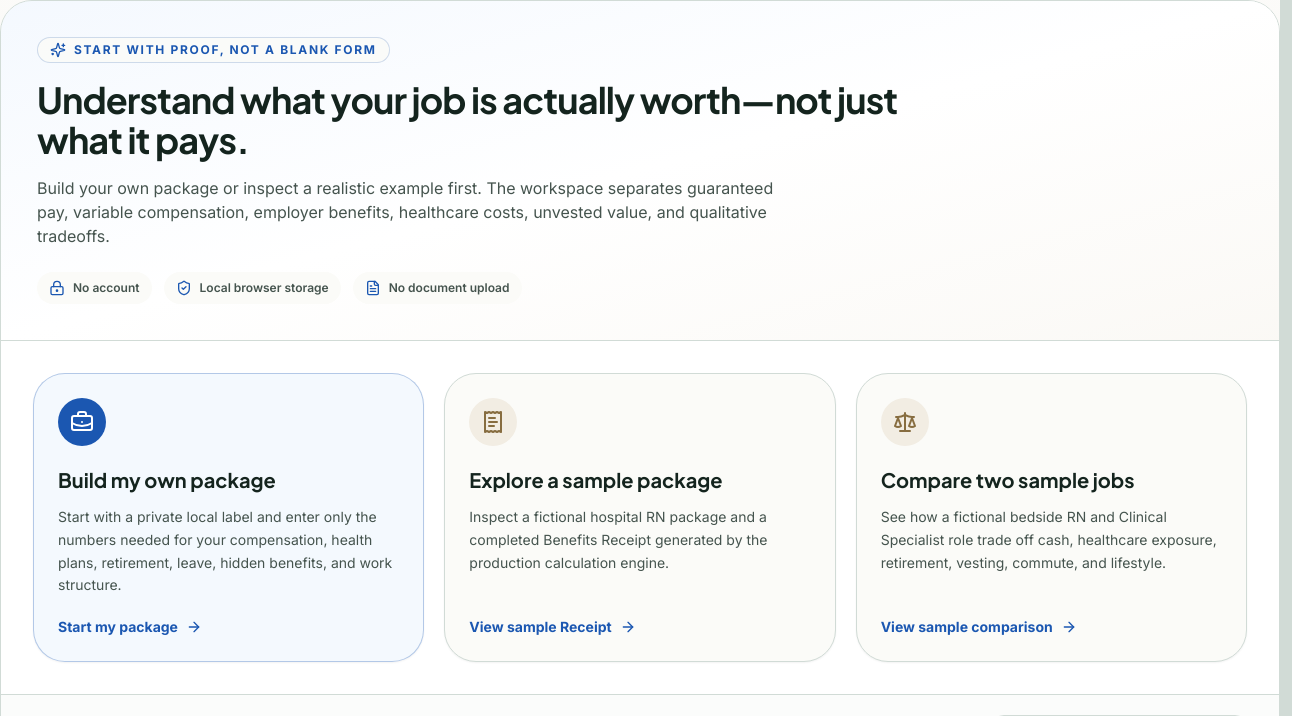
Test: BenefitsCommandCenterActivation › loads a sample package in one action and renders a calculated Receipt preview
Click the button "Explore a sample package": (640, 518) [444,373,836,662]
(page scrolled)
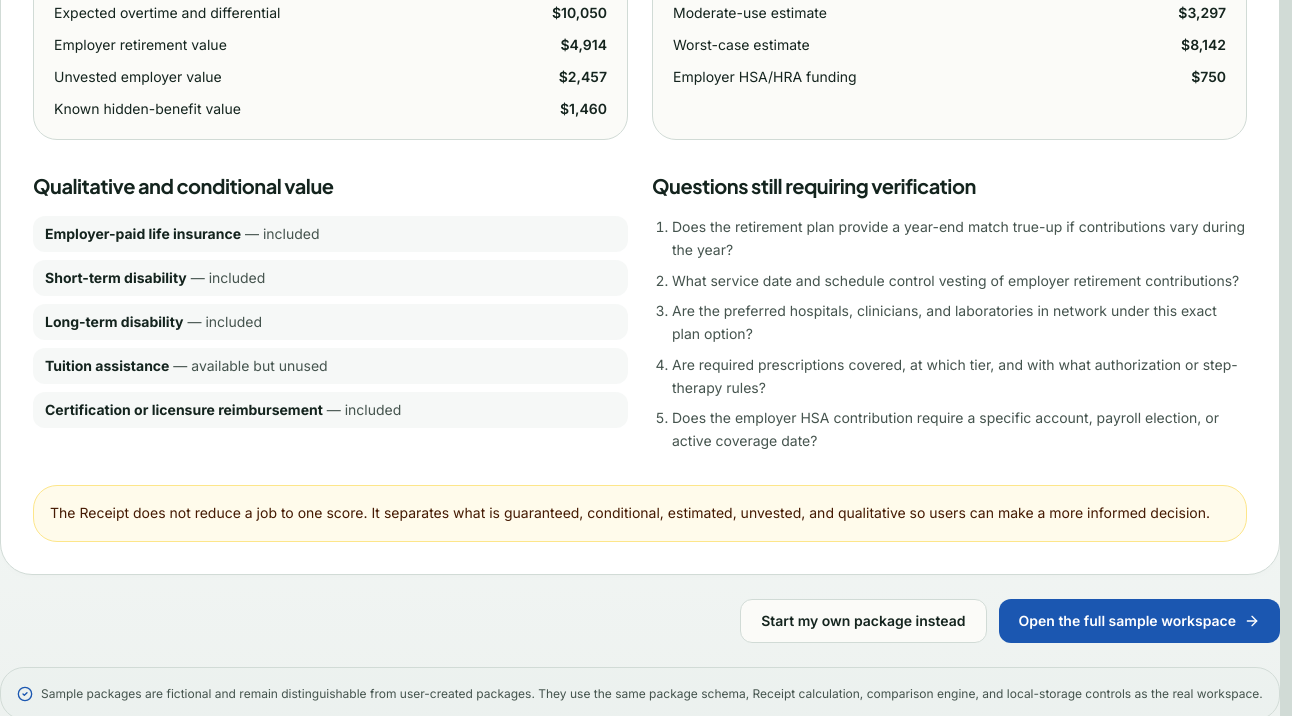
Now the text "does not reduce a job to one score" is shown, box [50,504,1210,521]
